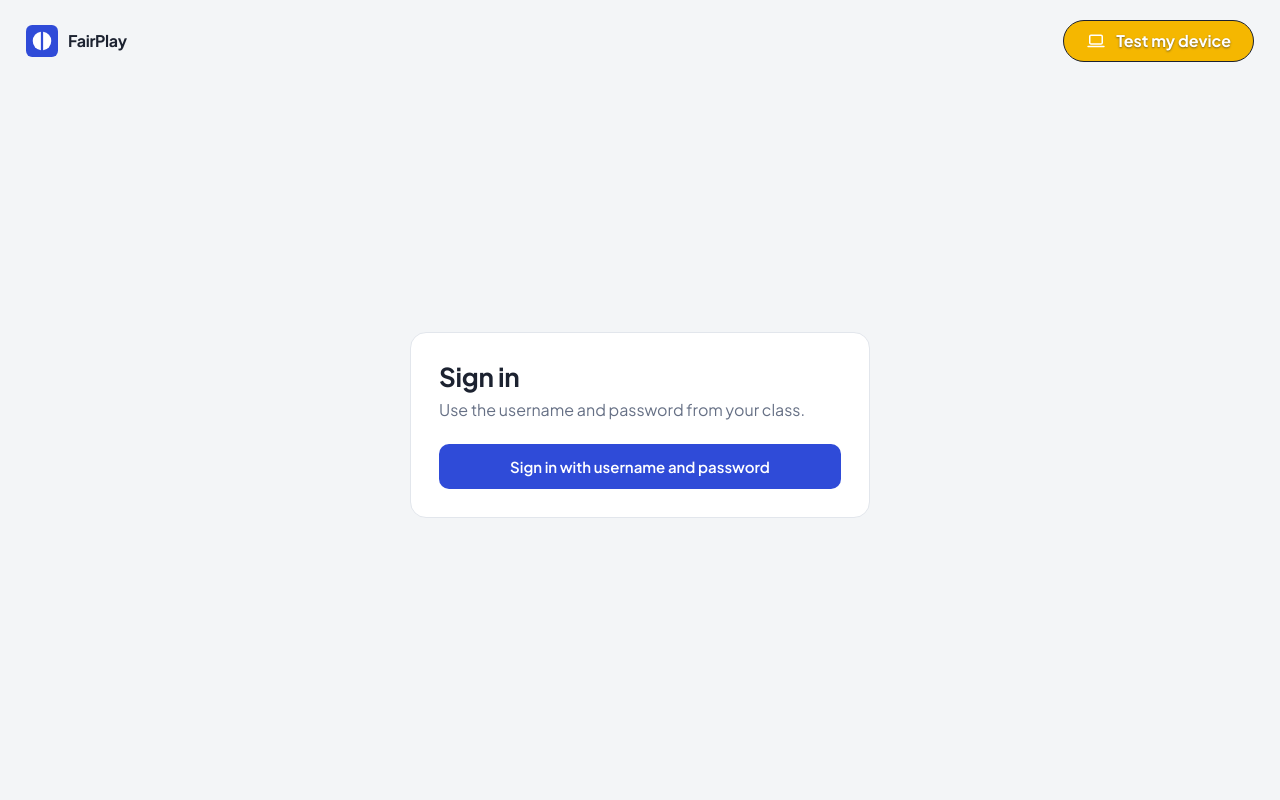
device test start › shows the line and stays when no answer comes in 1.5 s
Click the button "Test my device" at (1159,41), box [1063, 20, 1254, 62]
Wait 1600 ms
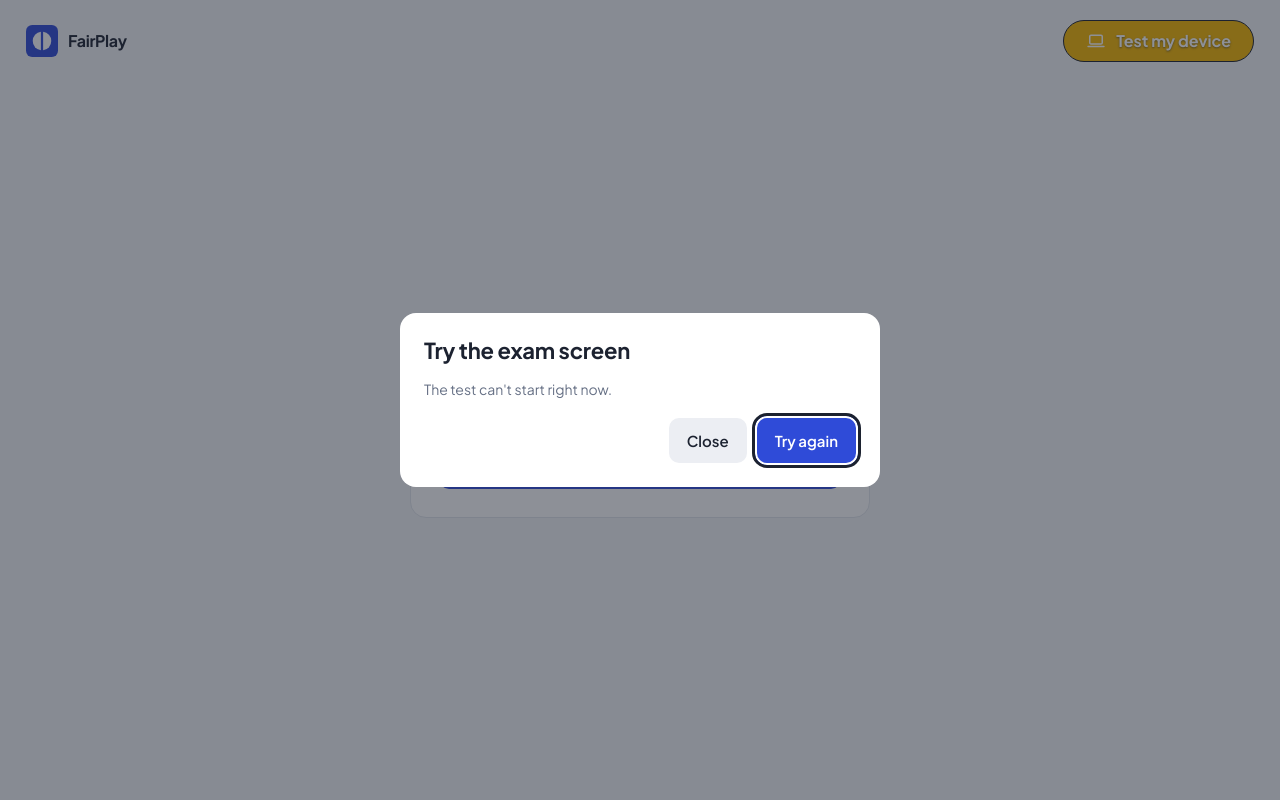
Check: the text "The test can't start right now." is shown, box [424, 380, 612, 398]
